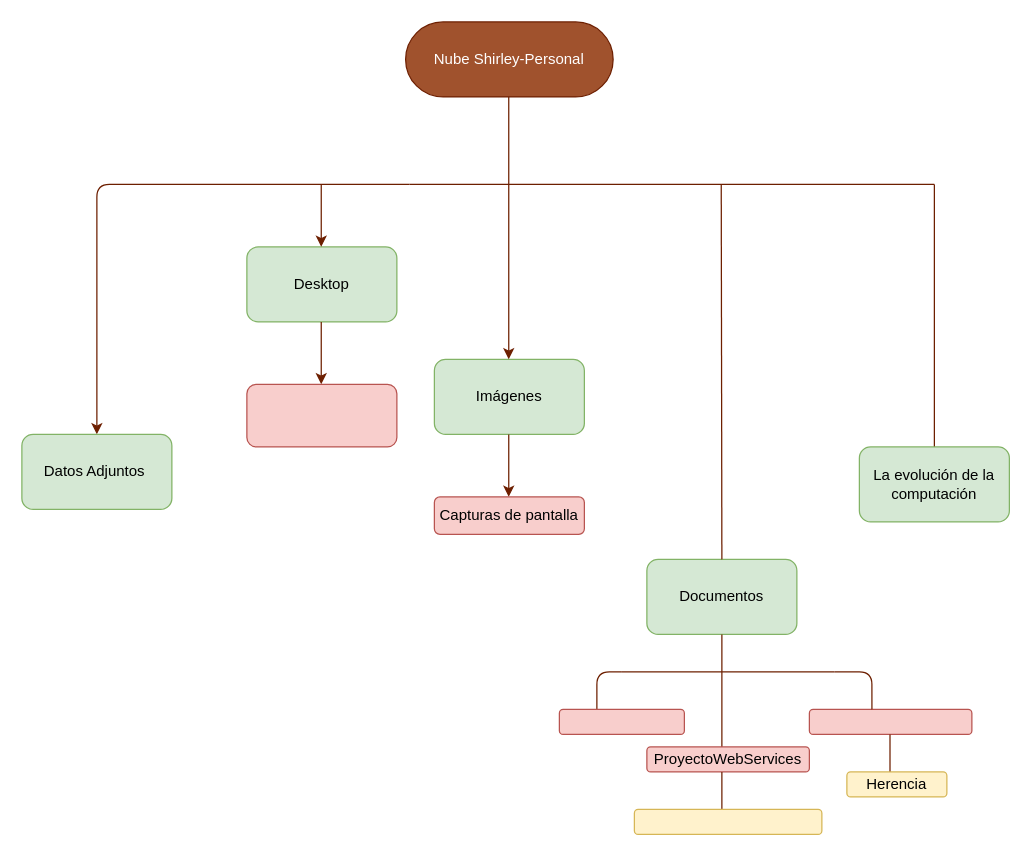
This 1031x856 diagram has some shape labels left out. Here are the shapes that lost their labels. From the top down, the centre of each, then its label:
At pixel 321 415: "Optimización de procesos administrativos".
At pixel 621 721: "Arduino".
At pixel 890 721: "NetBeansProjects".
At pixel 727 821: "ProyectoWebServices.Slnx".
